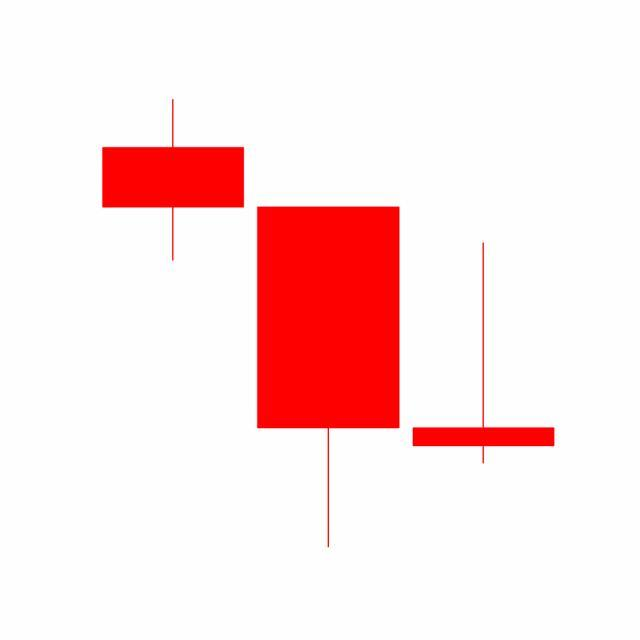Spinning Top: (406, 241, 562, 468)
